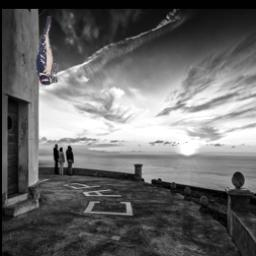Woodpecker: (35, 17, 59, 87)
